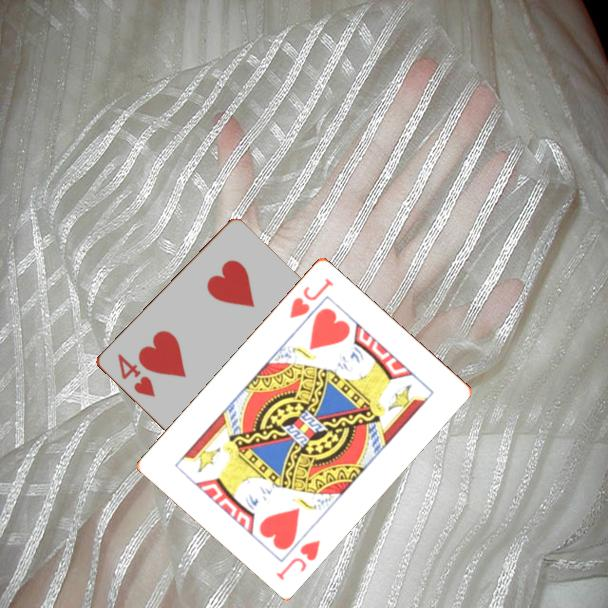h04: (114, 350, 158, 400)
h11: (286, 274, 336, 321), (273, 536, 323, 583)
